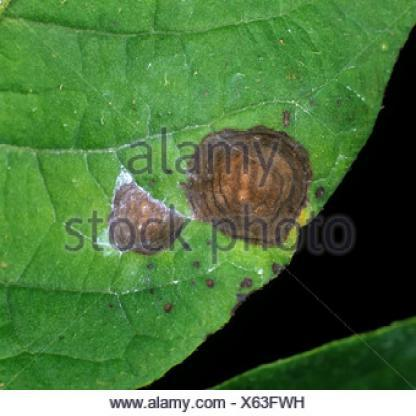Potato leaf late blight: (1, 2, 415, 388)
